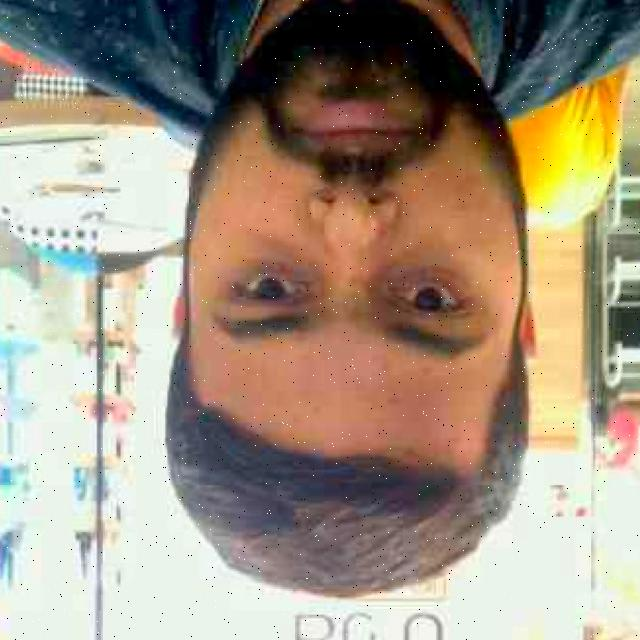puffy_eyes: (245, 231, 319, 274), (382, 246, 444, 284)
